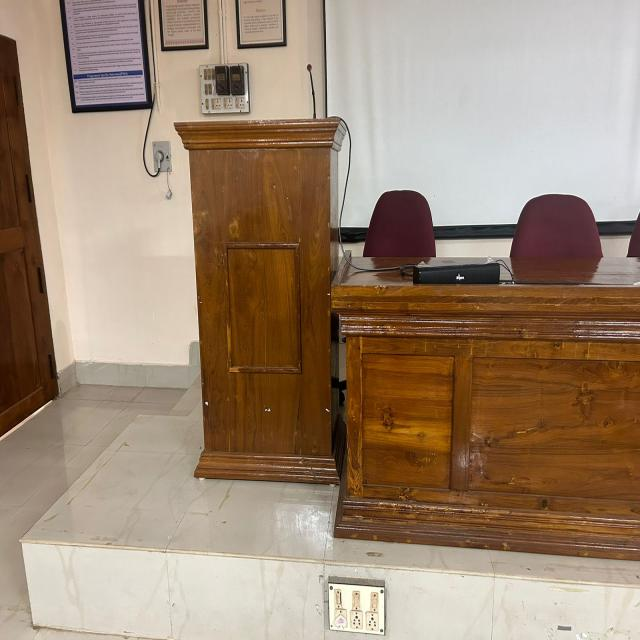Table ahead at: (339, 282, 640, 546), (178, 111, 338, 480)
chair ahead at: (506, 185, 607, 258), (360, 184, 440, 263)
